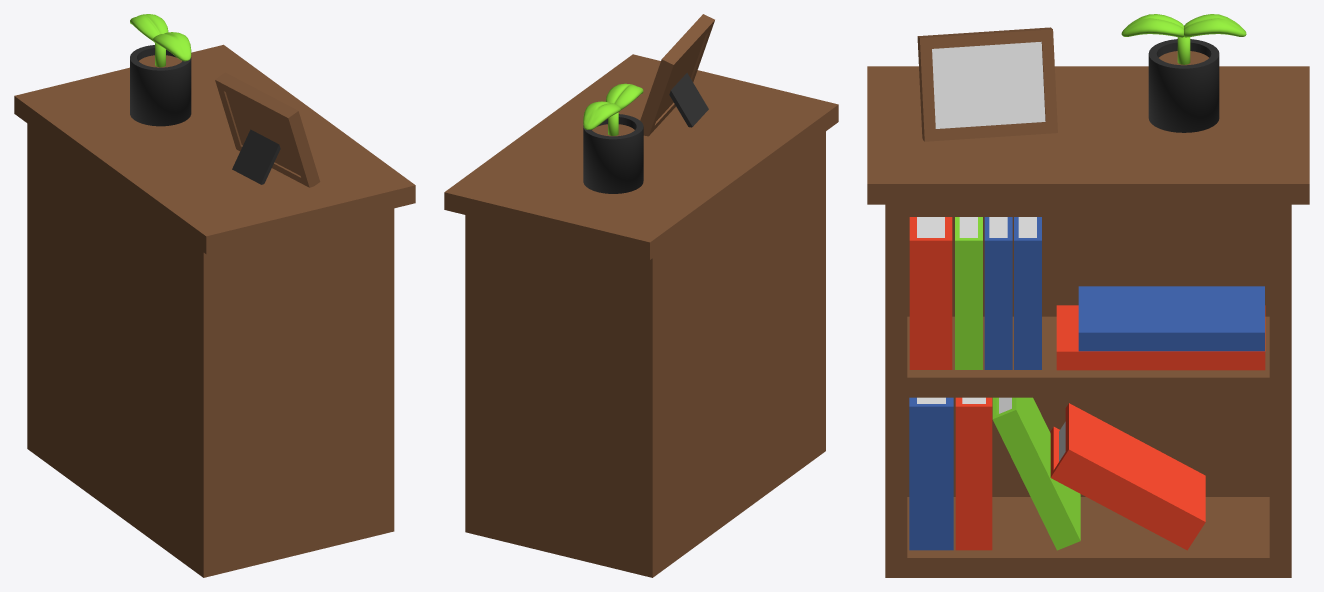
File: Shelf.fbx
3 views of the same model, side by side, from view 1: azimuth 30°, elevation 25°; view 2: azimuth 150°, elevation 25°; view 3: azimuth 270°, elevation 25° (orthographic). The views are drawn at different scales.
Visible parts, largest first — view 1: Shelf; view 2: Shelf; view 3: Shelf.
Boxes of the visible parts, x1=… form: Shelf: x1=14, y1=14, x2=415, y2=577; Shelf: x1=444, y1=14, x2=838, y2=577; Shelf: x1=867, y1=14, x2=1309, y2=577.
Bounding box in the file's own units: 200 × 126 × 250.
